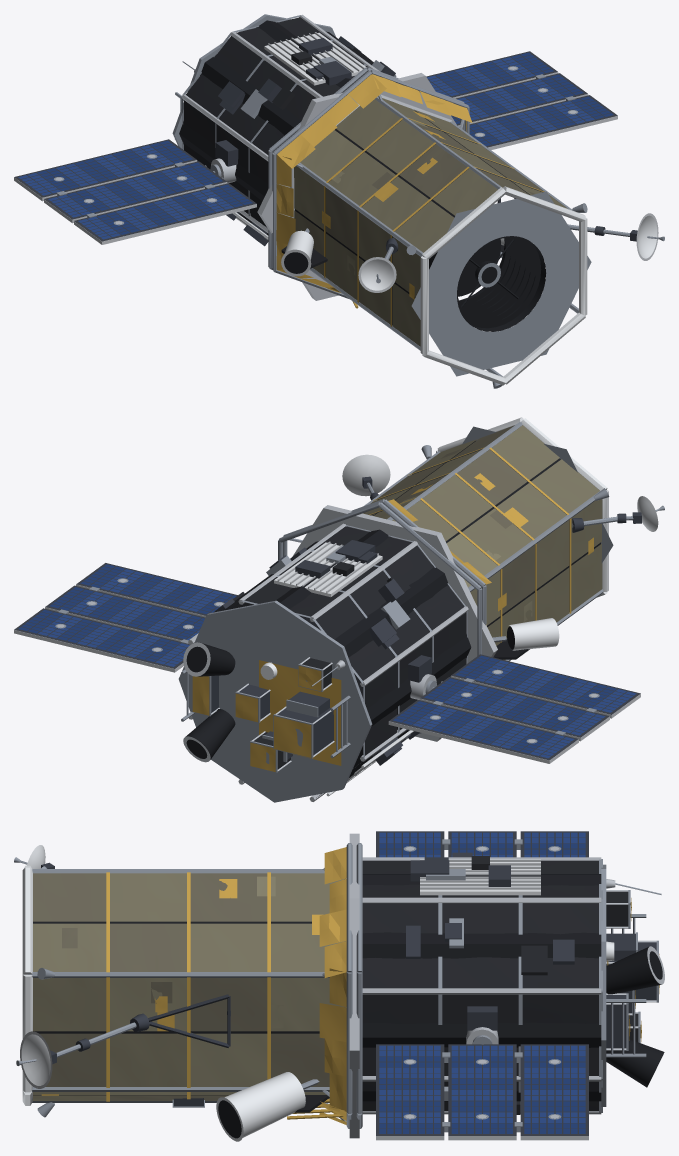
The model's file is worldview-3.glb.
3 views of the same model, one above another, from view 1: azimuth 30°, elevation 25°; view 2: azimuth 150°, elevation 25°; view 3: azimuth 270°, elevation 25° (orthographic). The views are drawn at different scales.
Parts seen in each view (by area): view 1: body, foil, solar-panel; view 2: body, foil, solar-panel; view 3: foil, body, solar-panel.
Part boxes in pixels (<box>): body: <box>14,14,664,388</box>; foil: <box>184,17,567,346</box>; solar-panel: <box>18,52,613,239</box>; body: <box>14,417,664,802</box>; foil: <box>192,425,602,797</box>; solar-panel: <box>18,564,636,758</box>; foil: <box>33,847,659,1124</box>; body: <box>14,831,664,1141</box>; solar-panel: <box>379,832,585,1133</box>.
Size of the model in its own units: 7.16 by 3.12 by 6.47.
